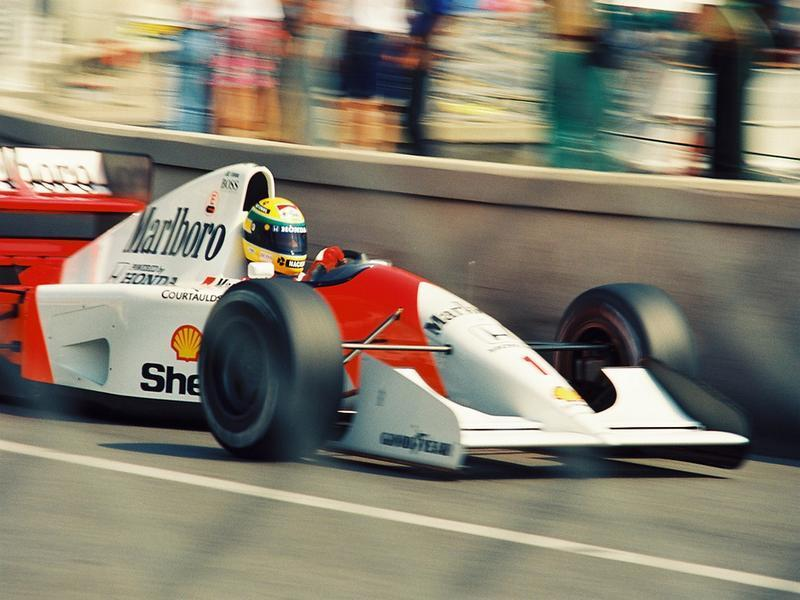f1: (5, 111, 760, 497)
